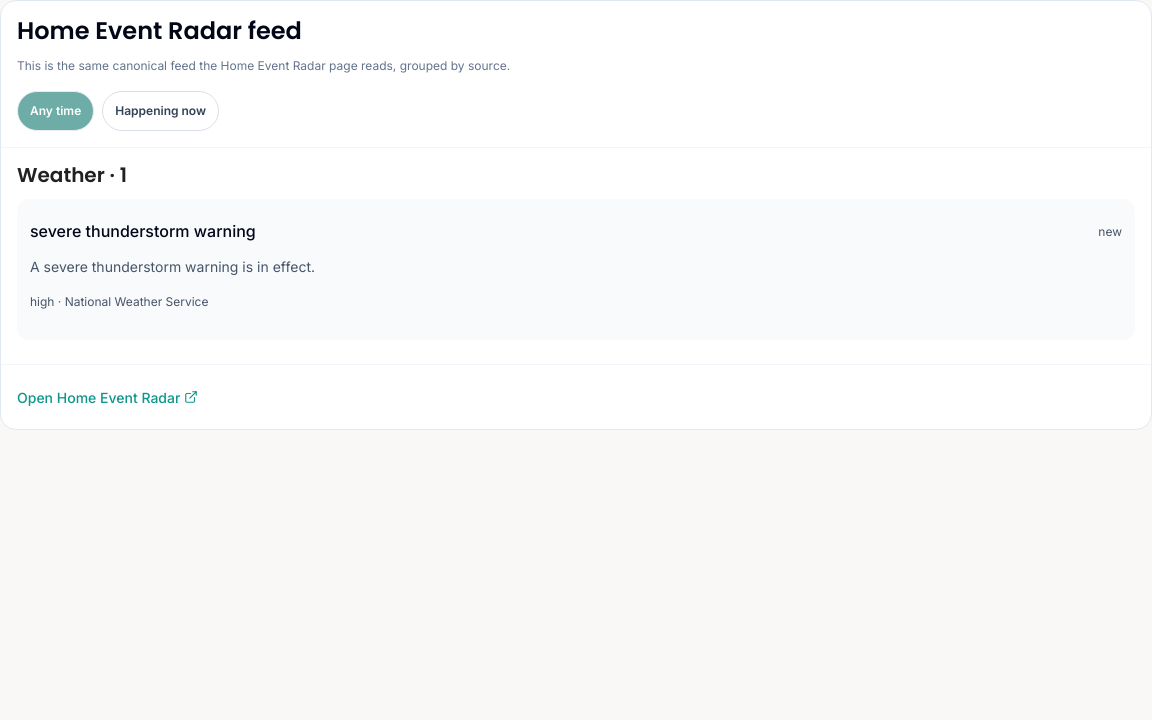
Test case: detail shows only the actions valid for the LIVE canonical state, not the (possibly stale) feed row
Click the button "severe thunderstorm warning".
click(143, 232)  # box [30, 212, 256, 252]
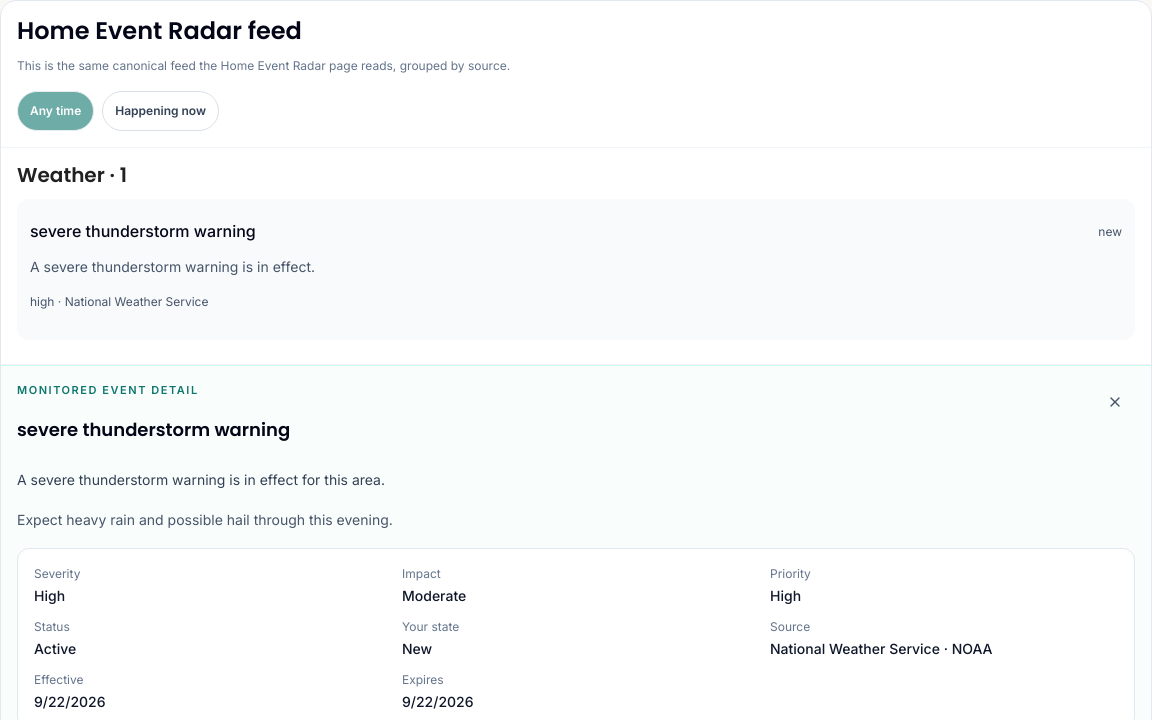
Check: the text "Expect heavy rain and possible hail through this evening." is shown, box [17, 511, 393, 528]
